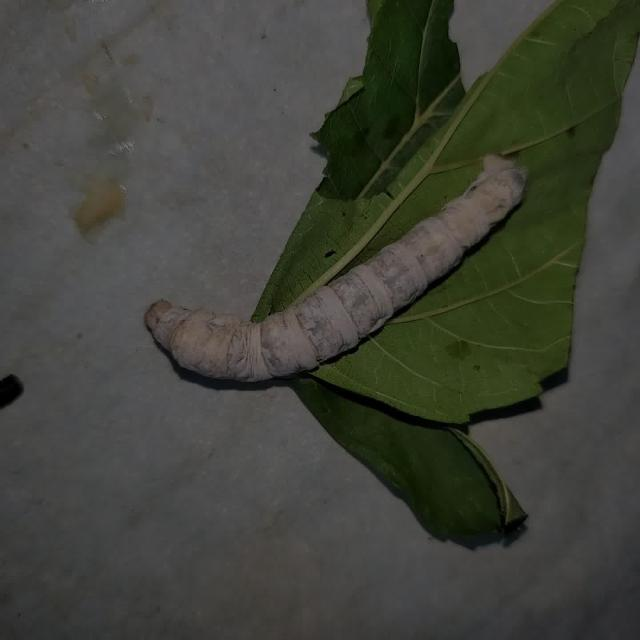Grasserie: (110, 119, 596, 425)
